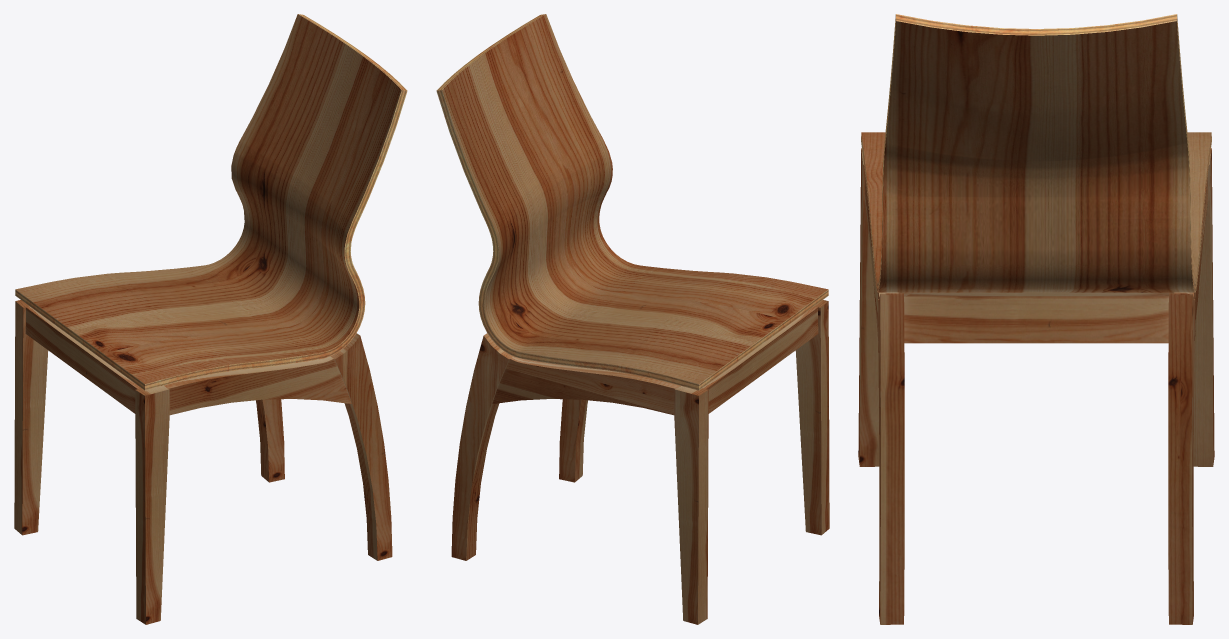
The model's file is chair.gltf.
3 renders of one model, left to right at view 1: azimuth 30°, elevation 25°; view 2: azimuth 150°, elevation 25°; view 3: azimuth 270°, elevation 25°, orthographic. The views are drawn at different scales.
Visible parts, largest first — view 1: Object_2; view 2: Object_2; view 3: Object_2.
Boxes of the visible parts, <box> form: Object_2: <box>14,14,407,624</box>; Object_2: <box>436,14,829,624</box>; Object_2: <box>858,14,1214,624</box>.
Bounding box in the file's own units: 22.21 × 33.88 × 17.61.
1 material, 1 textured.
